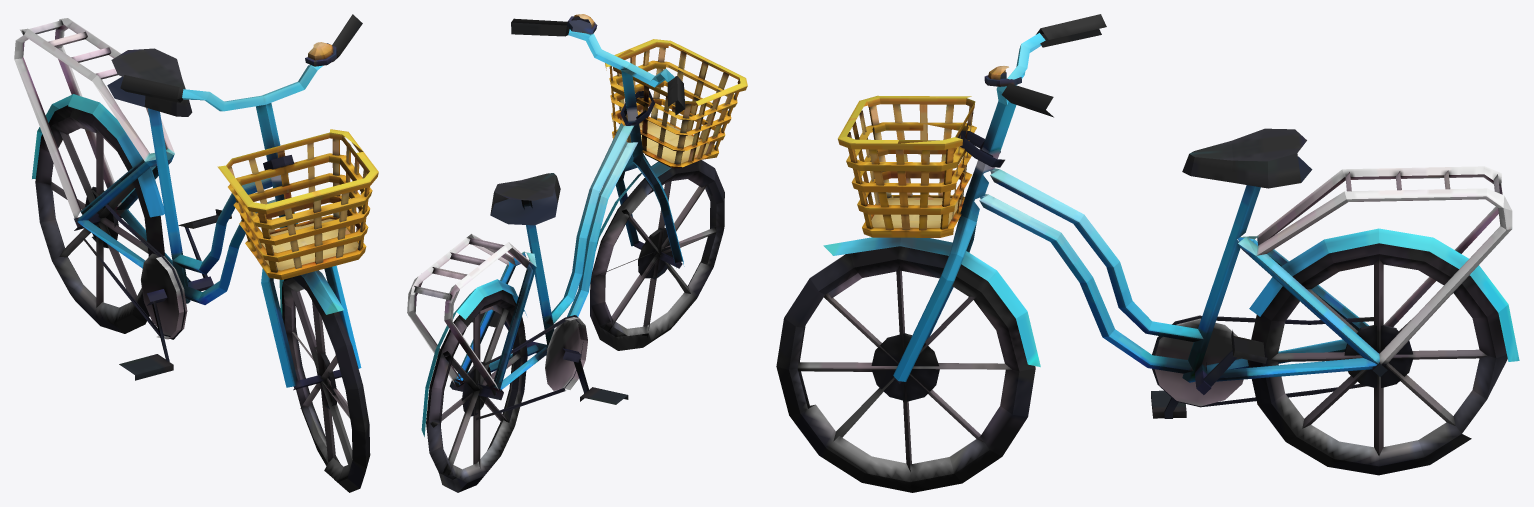
Rendered from FX_MESH_CH0156_Bike_01.fbx.
3 views of the same model, side by side, from view 1: azimuth 30°, elevation 25°; view 2: azimuth 150°, elevation 25°; view 3: azimuth 270°, elevation 25° (orthographic). The views are drawn at different scales.
Visible parts, largest first — view 1: FX_MESH_CH0156_Bike_03, FX_MESH_CH0156_Bike_04, FX_MESH_CH0156_Bike_01, FX_MESH_CH0156_Bike_06, FX_MESH_CH0156_Bike_05, FX_MESH_CH0156_Bike_02; view 2: FX_MESH_CH0156_Bike_03, FX_MESH_CH0156_Bike_04, FX_MESH_CH0156_Bike_01, FX_MESH_CH0156_Bike_06, FX_MESH_CH0156_Bike_05, FX_MESH_CH0156_Bike_02; view 3: FX_MESH_CH0156_Bike_03, FX_MESH_CH0156_Bike_04, FX_MESH_CH0156_Bike_01, FX_MESH_CH0156_Bike_05, FX_MESH_CH0156_Bike_06, FX_MESH_CH0156_Bike_02.
Part boxes in pixels (box(x1,y1,x2,y2)): FX_MESH_CH0156_Bike_03: box(120, 14, 378, 492); FX_MESH_CH0156_Bike_04: box(14, 18, 190, 333); FX_MESH_CH0156_Bike_01: box(83, 48, 288, 339); FX_MESH_CH0156_Bike_06: box(51, 130, 148, 307); FX_MESH_CH0156_Bike_05: box(290, 288, 352, 469); FX_MESH_CH0156_Bike_02: box(119, 209, 231, 380); FX_MESH_CH0156_Bike_03: box(511, 14, 747, 350); FX_MESH_CH0156_Bike_04: box(407, 234, 547, 492); FX_MESH_CH0156_Bike_01: box(476, 123, 637, 420); FX_MESH_CH0156_Bike_06: box(430, 308, 520, 475); FX_MESH_CH0156_Bike_05: box(596, 179, 716, 337); FX_MESH_CH0156_Bike_02: box(472, 311, 628, 404); FX_MESH_CH0156_Bike_03: box(776, 14, 1106, 492); FX_MESH_CH0156_Bike_04: box(1206, 166, 1519, 475); FX_MESH_CH0156_Bike_01: box(979, 128, 1373, 407); FX_MESH_CH0156_Bike_05: box(797, 266, 1011, 471); FX_MESH_CH0156_Bike_06: box(1270, 259, 1487, 455); FX_MESH_CH0156_Bike_02: box(1151, 330, 1267, 418).
Bounding box in the file's own units: 0.4857 × 0.8425 × 1.29.
